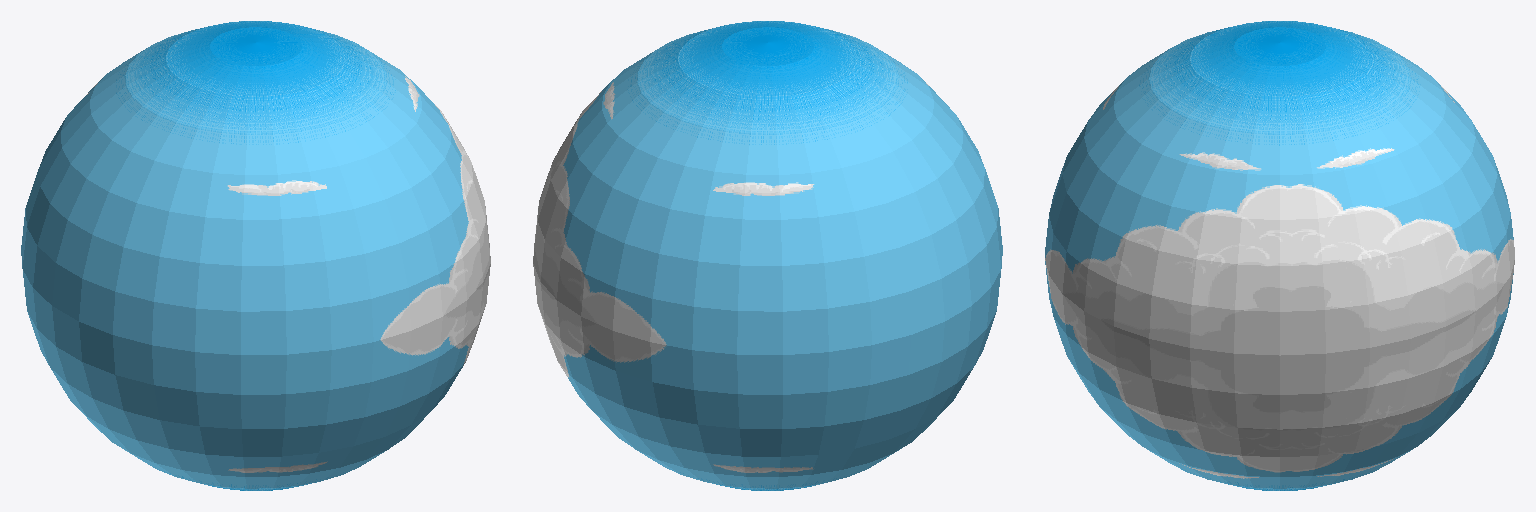
The picture shows the model from 3 angles: view 1: azimuth 30°, elevation 25°; view 2: azimuth 150°, elevation 25°; view 3: azimuth 270°, elevation 25°; orthographic projection.
Visible parts, largest first — view 1: 球; view 2: 球; view 3: 球.
Boxes of the visible parts, <box> form: 球: <box>21,21,490,490</box>; 球: <box>533,21,1002,490</box>; 球: <box>1045,21,1514,490</box>.
Size of the model in its own units: 2 by 2 by 2.
1 materials, 1 textured.